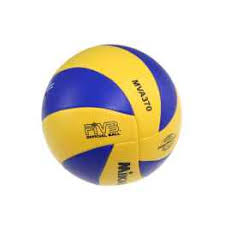ball: (41, 43, 183, 186)
